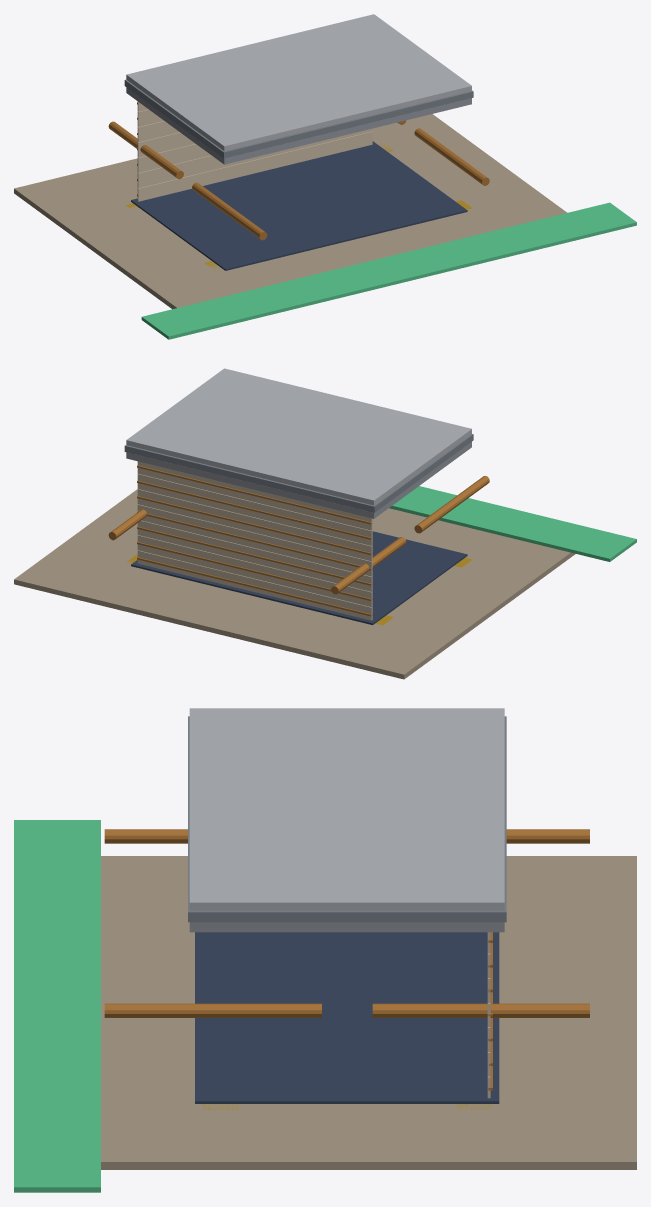
File: construction_master.glb
3 renders of one model, top to bottom at view 1: azimuth 30°, elevation 25°; view 2: azimuth 150°, elevation 25°; view 3: azimuth 270°, elevation 25°, orthographic. The views are drawn at different scales.
Parts seen in each view (by area): view 1: world; view 2: world; view 3: world.
Boxes of the visible parts, x1,y1,x2,y2 form: world: (14, 14, 636, 339); world: (14, 368, 636, 679); world: (14, 708, 636, 1192).
Bounding box in the file's own units: 12 × 3.9 × 8.6.
